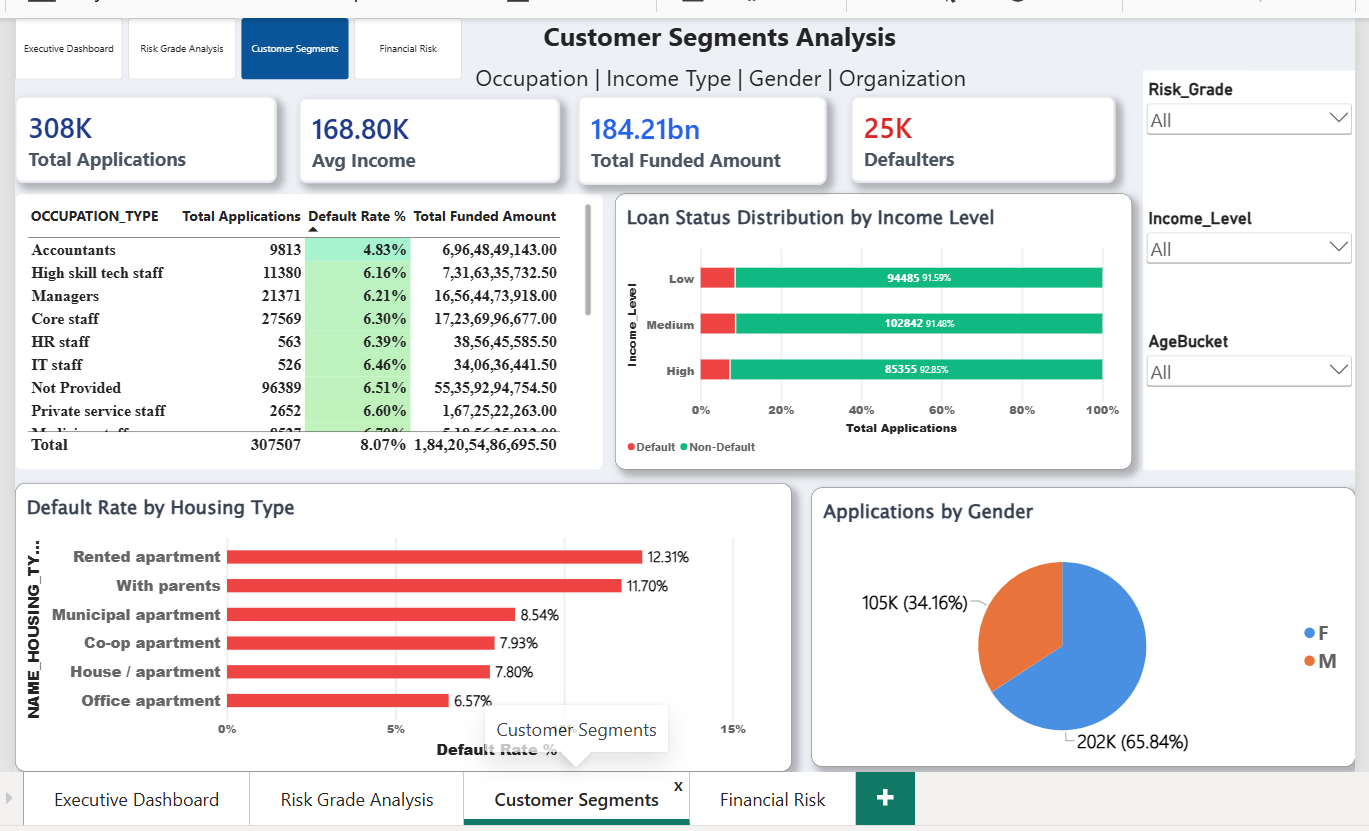

The dashboard page shown, as its layout file describes it:
{"tool":"powerbi","page":{"name":"Customer Segments","canvas":[1920,1080],"ordinal":2},"visuals":[{"type":"shape","box":[1614.9,75,304.4,572.4],"z":0},{"type":"textbox","box":[10,0,1667.5,62.5],"z":1000},{"type":"textbox","box":[10,62.5,1667.5,50],"z":2000},{"type":"tableEx","fields":{"Values":["clients.OCCUPATION_TYPE","clients.Total Applications","clients.Default Rate %","clients.Total Funded Amount"]},"box":[0,252.1,842.7,395.2],"z":3000},{"type":"clusteredBarChart","title":"Default Rate by Housing Type","fields":{"Category":["clients.NAME_HOUSING_TYPE"],"Y":["clients.Default Rate %"]},"box":[0,665.5,1112.9,413.4],"z":4000},{"type":"pieChart","title":"Applications by Gender","fields":{"Category":["clients.CODE_GENDER"],"Y":["clients.Total Applications"]},"box":[1140.2,672.3,779.1,399.8],"z":5000},{"type":"hundredPercentStackedBarChart","title":"Loan Status Distribution by Income Level","fields":{"Category":["clients.Income_Level"],"Series":["clients.Loan Status"],"Y":["clients.Total Applications"]},"box":[858.6,252.1,740.4,395.2],"z":6000},{"type":"cardVisual","fields":{"Data":["clients.Total Applications"]},"box":[0,111.3,374.8,124.9],"z":7000},{"type":"cardVisual","fields":{"Data":["clients.Avg Income"]},"box":[406.6,113.6,374.8,122.7],"z":8000},{"type":"slicer","fields":{"Values":["clients.Risk_Grade"]},"box":[1614.9,88.6,304.4,147.6],"z":9000},{"type":"slicer","fields":{"Values":["clients.AgeBucket"]},"box":[1614.9,449.7,304.4,172.6],"z":10000},{"type":"slicer","fields":{"Values":["clients.Income_Level"]},"box":[1614.9,272.6,304.4,127.2],"z":11000},{"type":"cardVisual","fields":{"Data":["clients.Total Funded Amount"]},"box":[806.3,111.3,356.6,127.2],"z":12000},{"type":"cardVisual","fields":{"Data":["clients.Defaulters"]},"box":[1197,111.3,379.3,124.9],"z":12001},{"type":"pageNavigator","box":[0,0,640.5,88.6],"z":12002}]}

Visuals, with their boxes on the page's 1920x1080 design canvas (x1, y1, x2, y2). These are canvas units, not pixel positions in the 1369x831 screenshot, which may show the page scaled, cropped or inside an application window:
shape: x1=1615, y1=75, x2=1919, y2=647
textbox: x1=10, y1=0, x2=1678, y2=62
textbox: x1=10, y1=62, x2=1678, y2=112
tableEx - clients.OCCUPATION_TYPE x clients.Total Applications: x1=0, y1=252, x2=843, y2=647
"Default Rate by Housing Type" clusteredBarChart: x1=0, y1=666, x2=1113, y2=1079
"Applications by Gender" pieChart: x1=1140, y1=672, x2=1919, y2=1072
"Loan Status Distribution by Income Level" hundredPercentStackedBarChart: x1=859, y1=252, x2=1599, y2=647
cardVisual - clients.Total Applications: x1=0, y1=111, x2=375, y2=236
cardVisual - clients.Avg Income: x1=407, y1=114, x2=781, y2=236
slicer - clients.Risk_Grade: x1=1615, y1=89, x2=1919, y2=236
slicer - clients.AgeBucket: x1=1615, y1=450, x2=1919, y2=622
slicer - clients.Income_Level: x1=1615, y1=273, x2=1919, y2=400
cardVisual - clients.Total Funded Amount: x1=806, y1=111, x2=1163, y2=238
cardVisual - clients.Defaulters: x1=1197, y1=111, x2=1576, y2=236
pageNavigator: x1=0, y1=0, x2=640, y2=89
